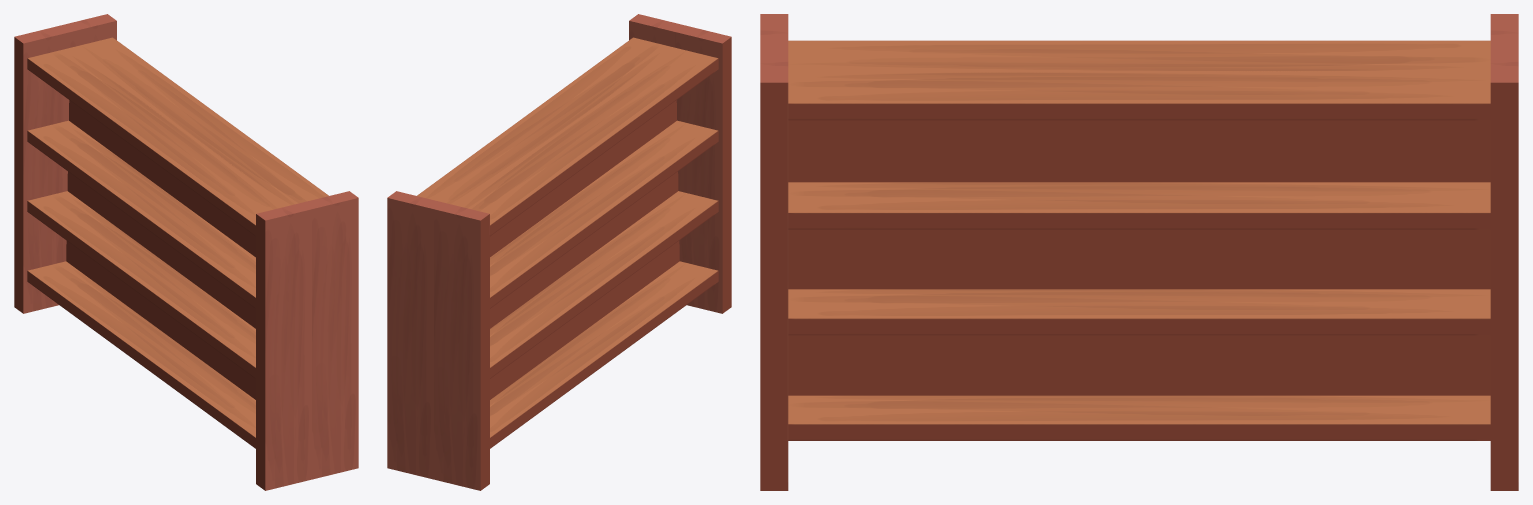
File: lowShelves.fbx
3 renders of one model, left to right at view 1: azimuth 30°, elevation 25°; view 2: azimuth 150°, elevation 25°; view 3: azimuth 270°, elevation 25°, orthographic. The views are drawn at different scales.
Visible parts, largest first — view 1: lowShelves; view 2: lowShelves; view 3: lowShelves.
Part boxes in pixels (box(x1,y1,x2,y2)): lowShelves: box(14, 14, 358, 490); lowShelves: box(387, 14, 731, 490); lowShelves: box(760, 14, 1518, 490).
Bounding box in the file's own units: 47.54 × 132 × 221.
1 material, 1 textured.
